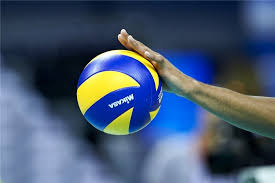ball: (76, 49, 163, 135)
